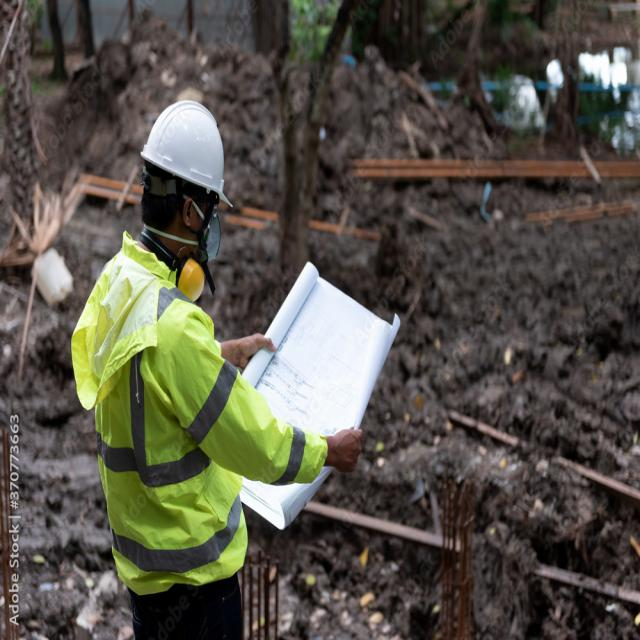helmet: (136, 94, 237, 220)
vest: (64, 235, 329, 601)
